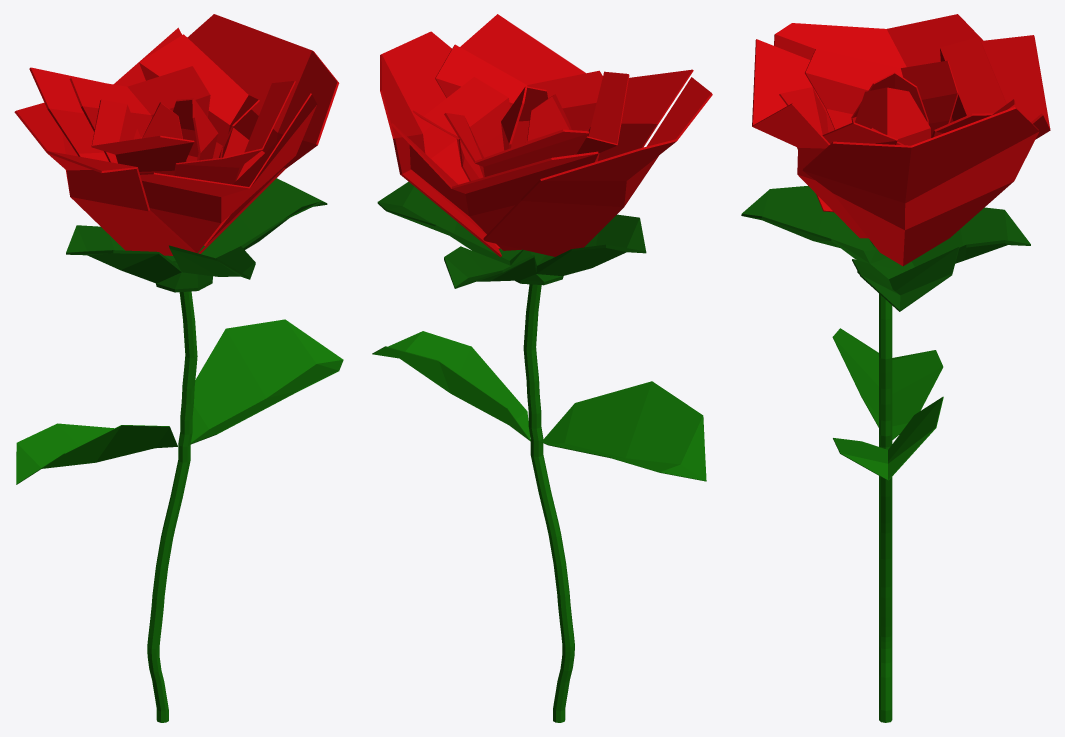
The model's file is rose.fbx.
3 views of the same model, side by side, from view 1: azimuth 30°, elevation 25°; view 2: azimuth 150°, elevation 25°; view 3: azimuth 270°, elevation 25° (orthographic). The views are drawn at different scales.
Parts seen in each view (by area): view 1: Petals, Stem; view 2: Petals, Stem; view 3: Petals, Stem.
Part boxes in pixels (box(x1,y1,x2,y2)): Petals: box(14, 14, 339, 292); Stem: box(16, 291, 343, 722); Petals: box(377, 14, 712, 288); Stem: box(372, 284, 706, 722); Petals: box(741, 14, 1050, 311); Stem: box(832, 293, 943, 722).
Size of the model in its own units: 839 by 1553 by 648.
